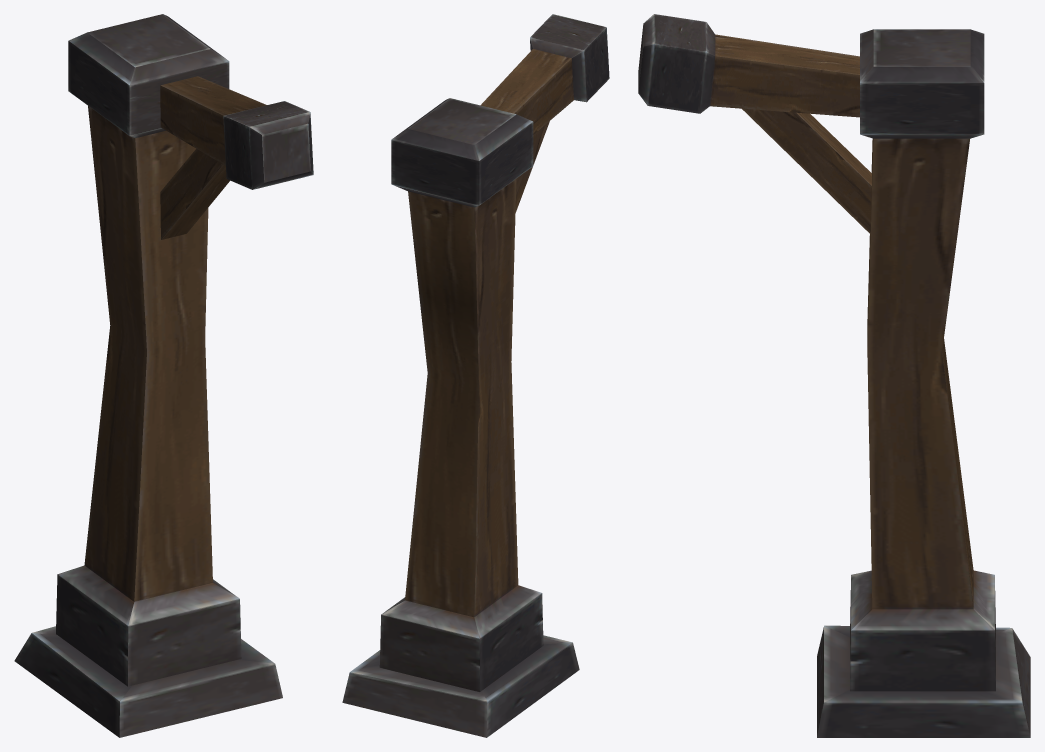
The model's file is 6001_Item_daolu_5.FBX.
3 views of the same model, side by side, from view 1: azimuth 30°, elevation 25°; view 2: azimuth 150°, elevation 25°; view 3: azimuth 270°, elevation 25° (orthographic). The views are drawn at different scales.
Visible parts, largest first — view 1: 6001_Item_daolu_5; view 2: 6001_Item_daolu_5; view 3: 6001_Item_daolu_5.
Boxes of the visible parts, x1,y1,x2,y2 form: 6001_Item_daolu_5: [14, 14, 313, 737]; 6001_Item_daolu_5: [342, 14, 609, 737]; 6001_Item_daolu_5: [638, 14, 1030, 737].
Bounding box in the file's own units: 131 × 505 × 269.
